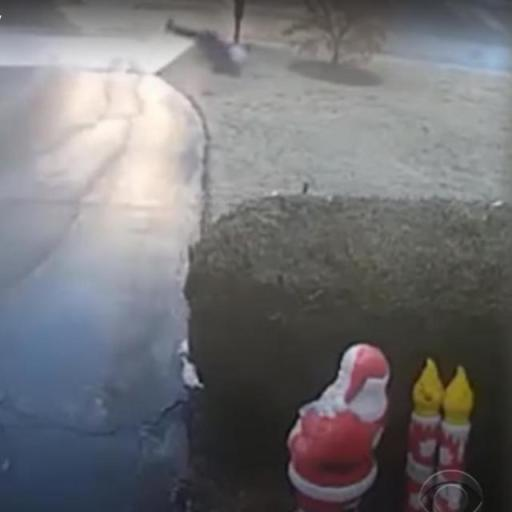Fall: (160, 12, 261, 81)
